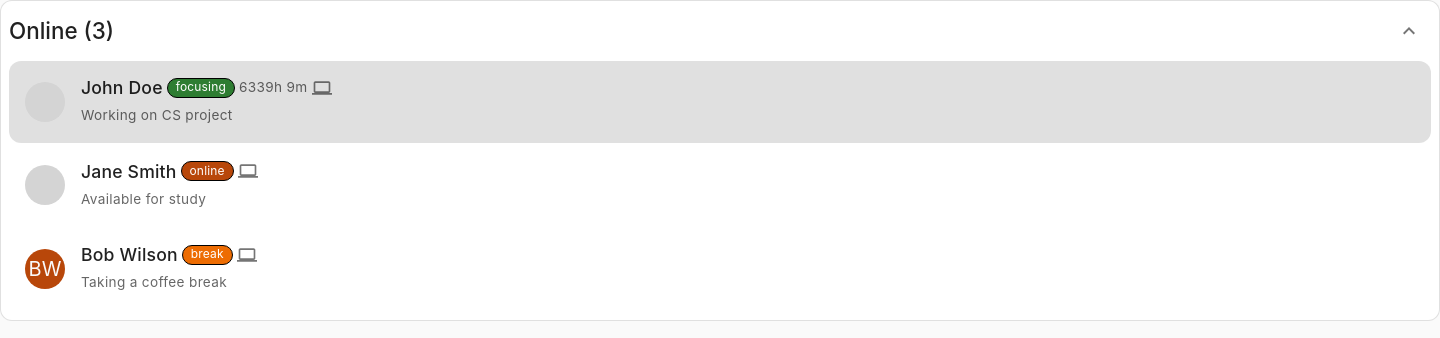
HivePresencePanel › User Interactions Tests › should show user profile preview on hover
Hover over the list item with test id "presence-user-john_doe": point(720, 102) [9,61,1431,142]
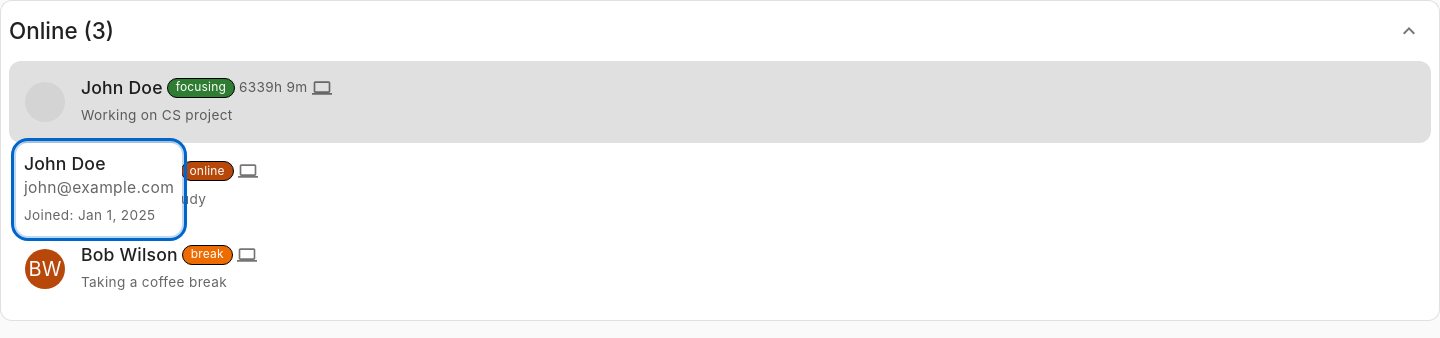
Now the element with test id "user-profile-preview" is shown, box [16,143,182,236]
Now the text "john@example.com" is shown, box [24,176,174,200]
Now the text "Joined: Jan 1, 2025" is shown, box [24,207,155,223]
